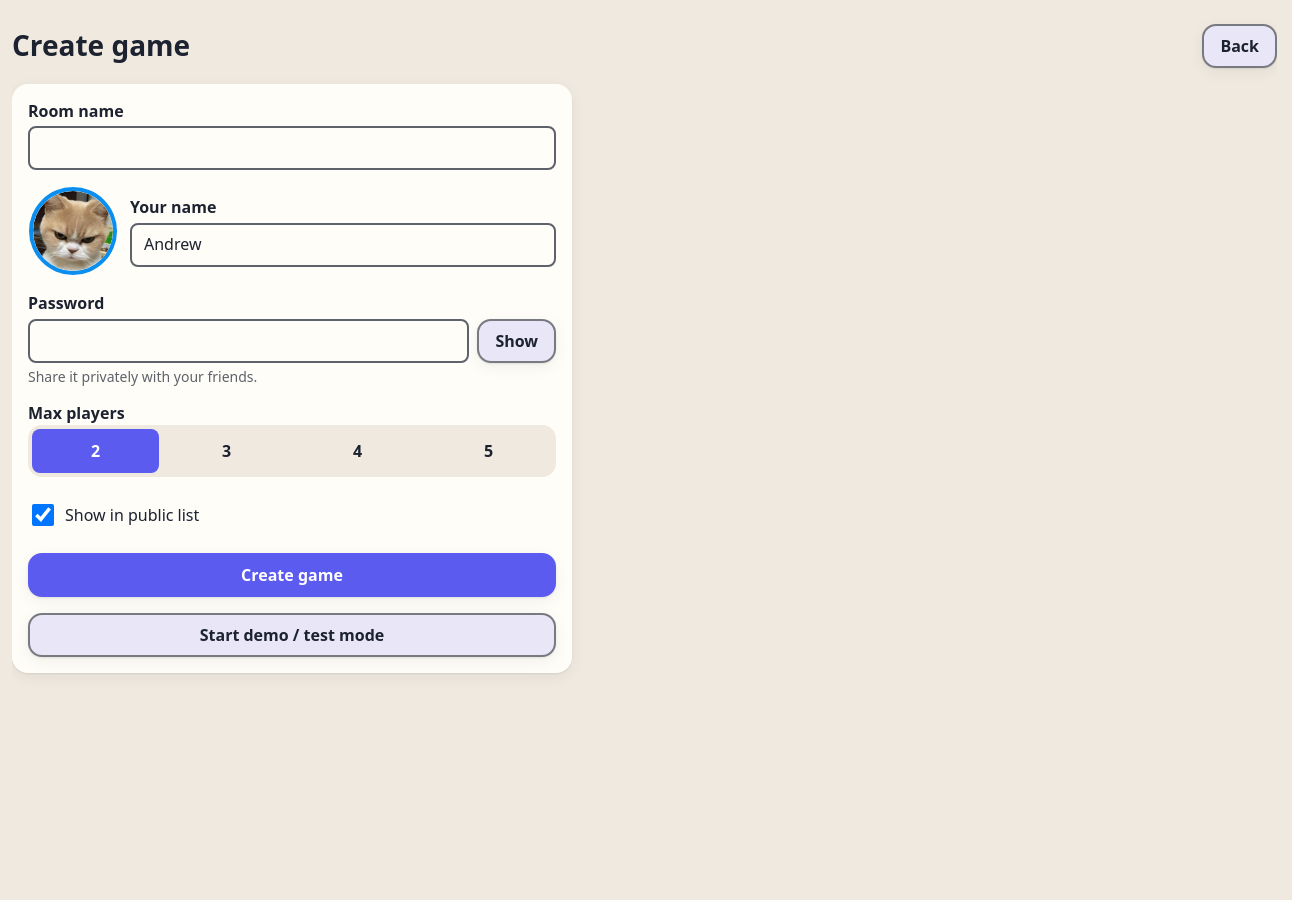
Test: CreateGame › shows a friendly rate-limit message
This screenshot has width=1292, height=900.
Step 1. Type "Room" into the field labelled "Room name" → [292, 148], box [28,126,556,170]
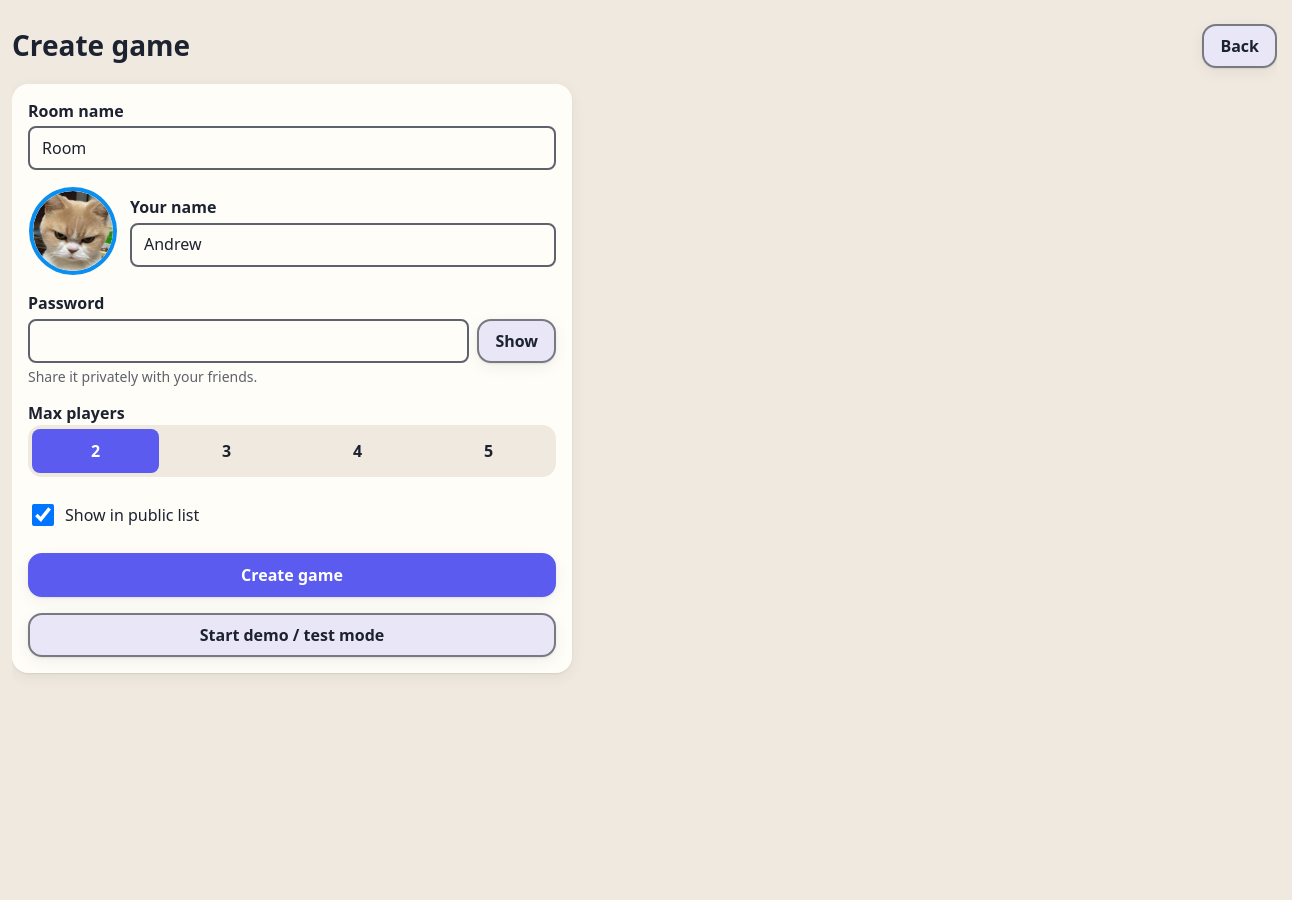
Step 2. Replace the text in the field labelled "Your name" with "Me" → [343, 245], box [130,223,556,267]
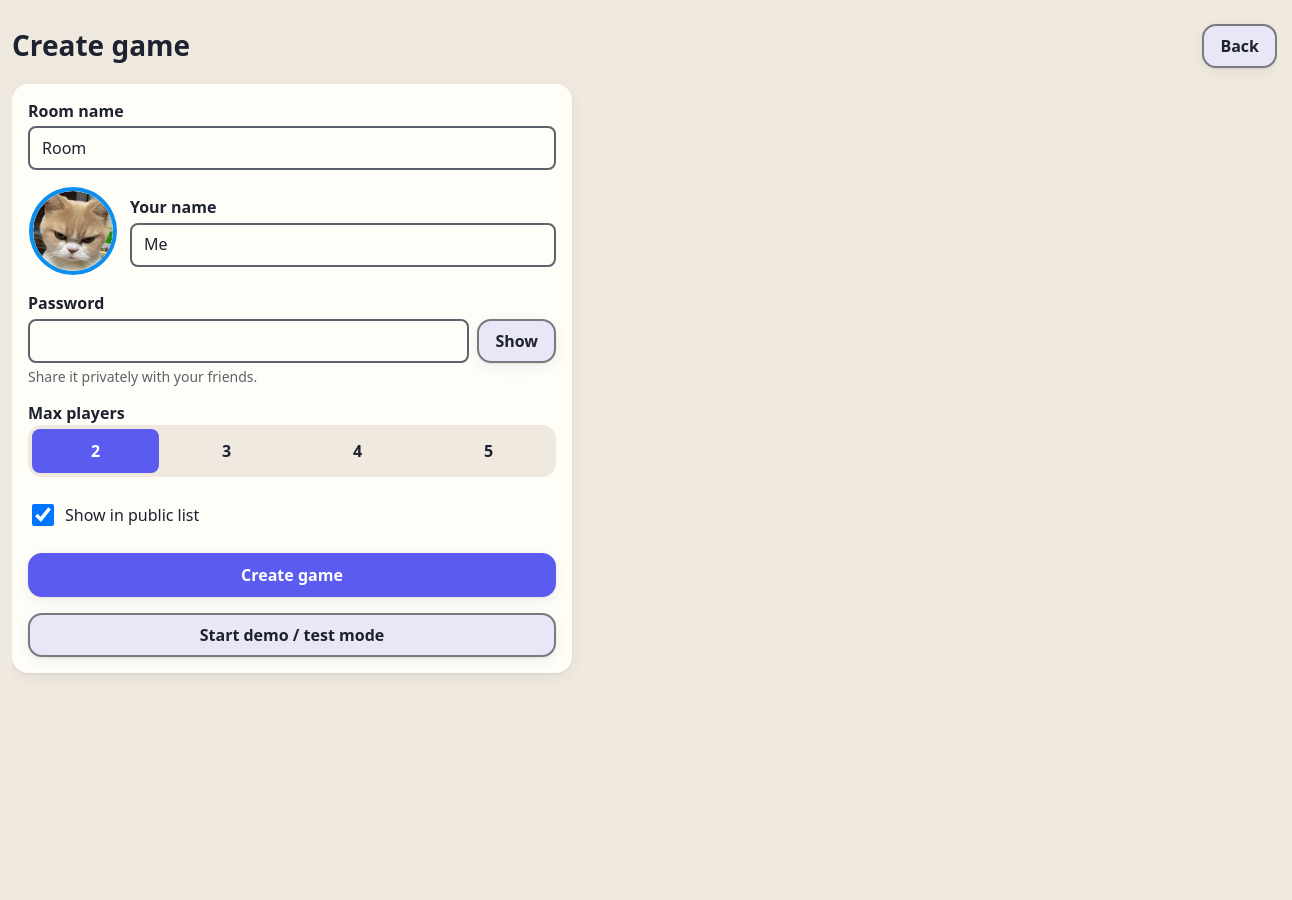
Step 3. Type "pass" into the password field labelled "Password" → [249, 341], box [28,319,469,363]
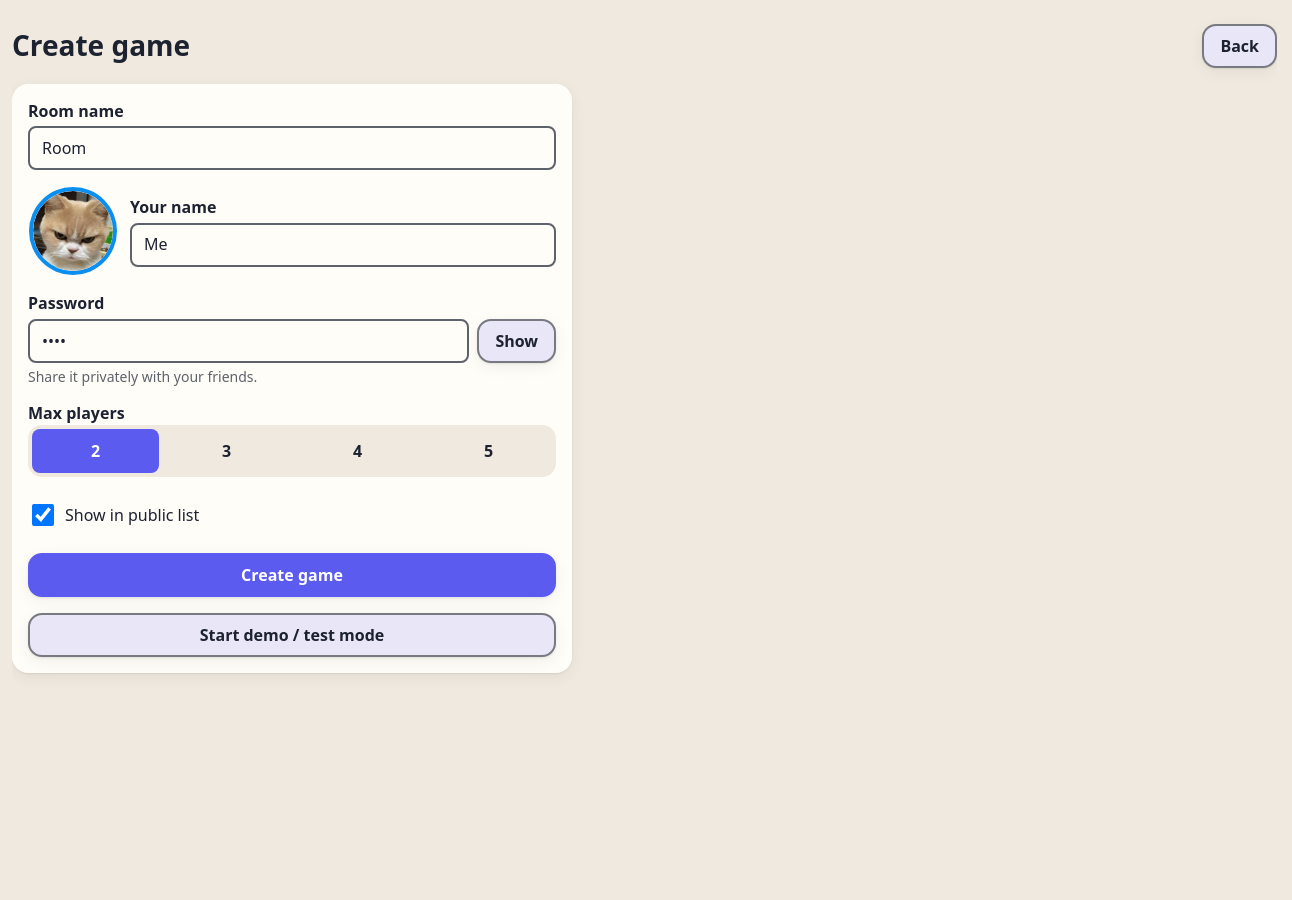
Step 4. Click the button "Create game" → [292, 575], box [28,553,556,597]
(page scrolled)
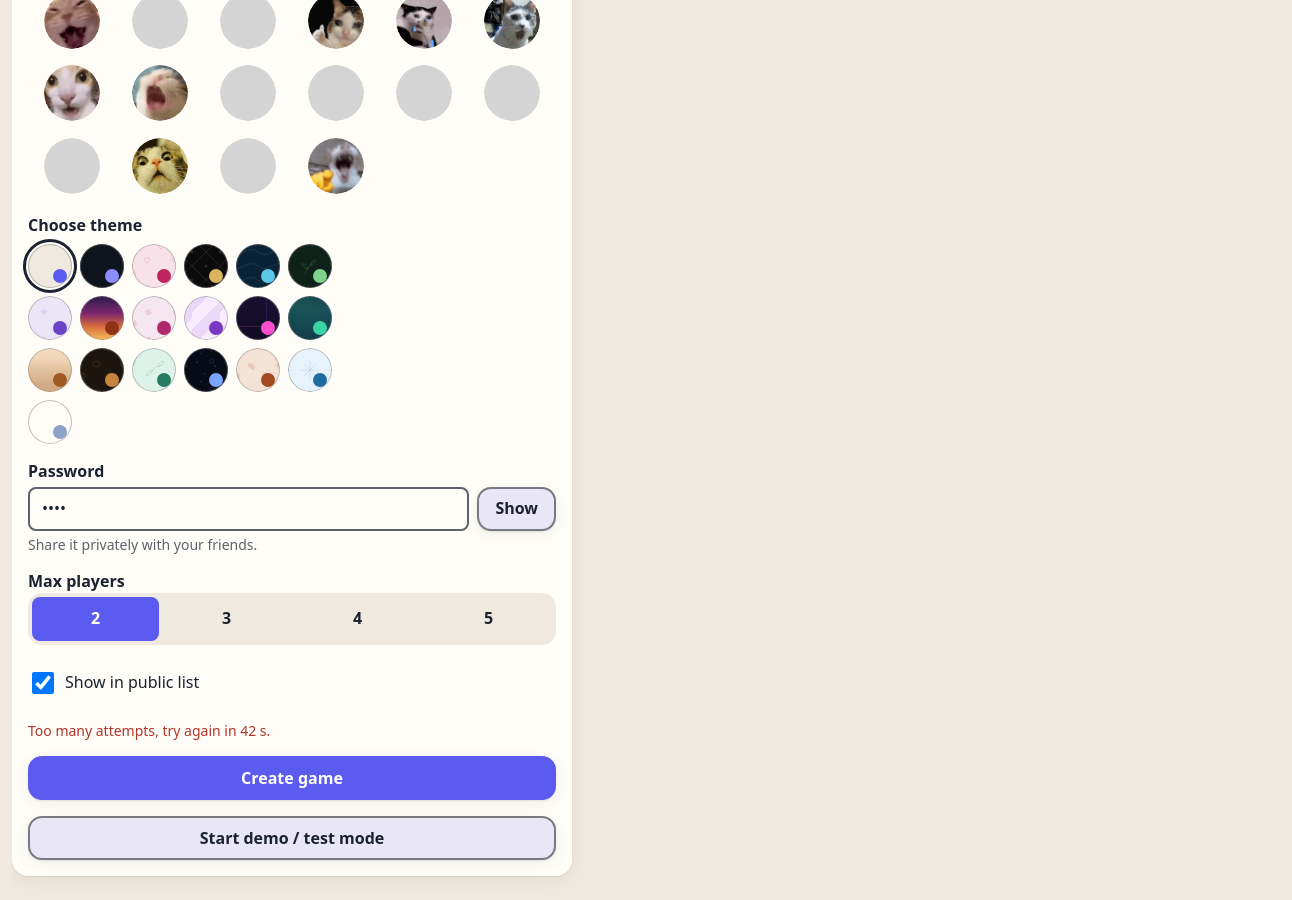
Expected: the text "Too many attempts, try again in 42 s." is shown, [28,720,270,740]
